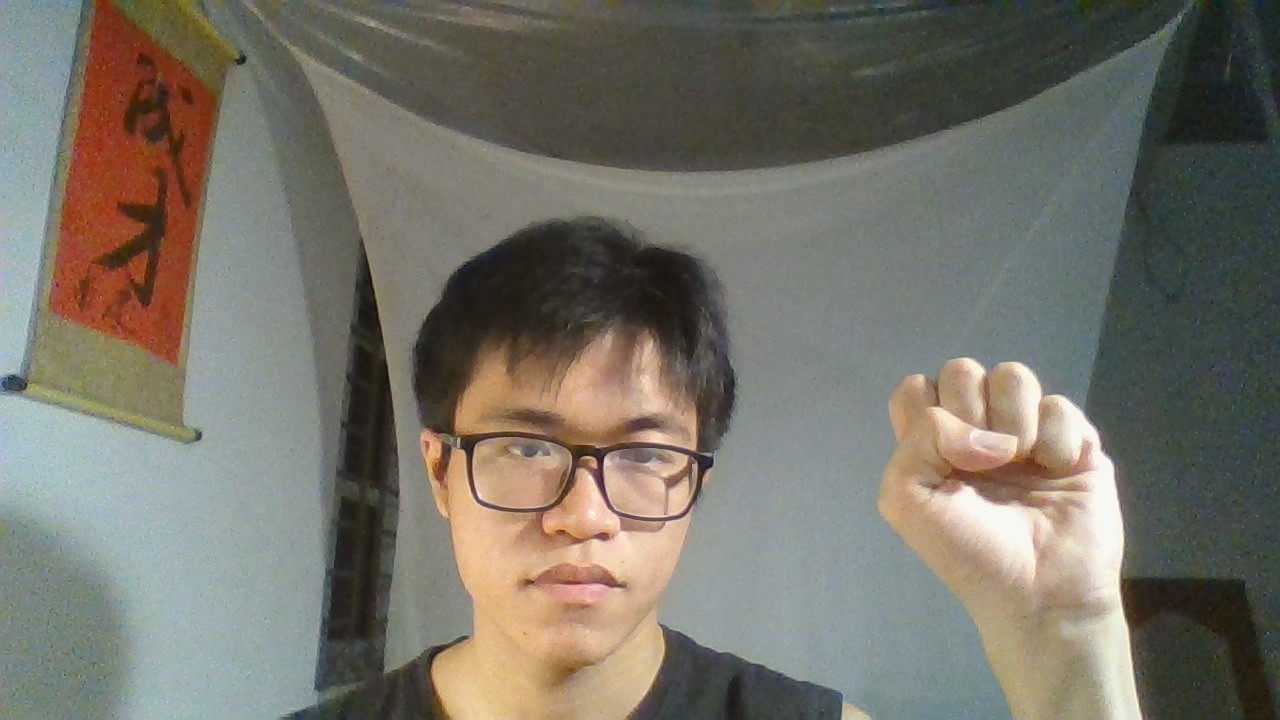s: (824, 314, 1202, 661)
